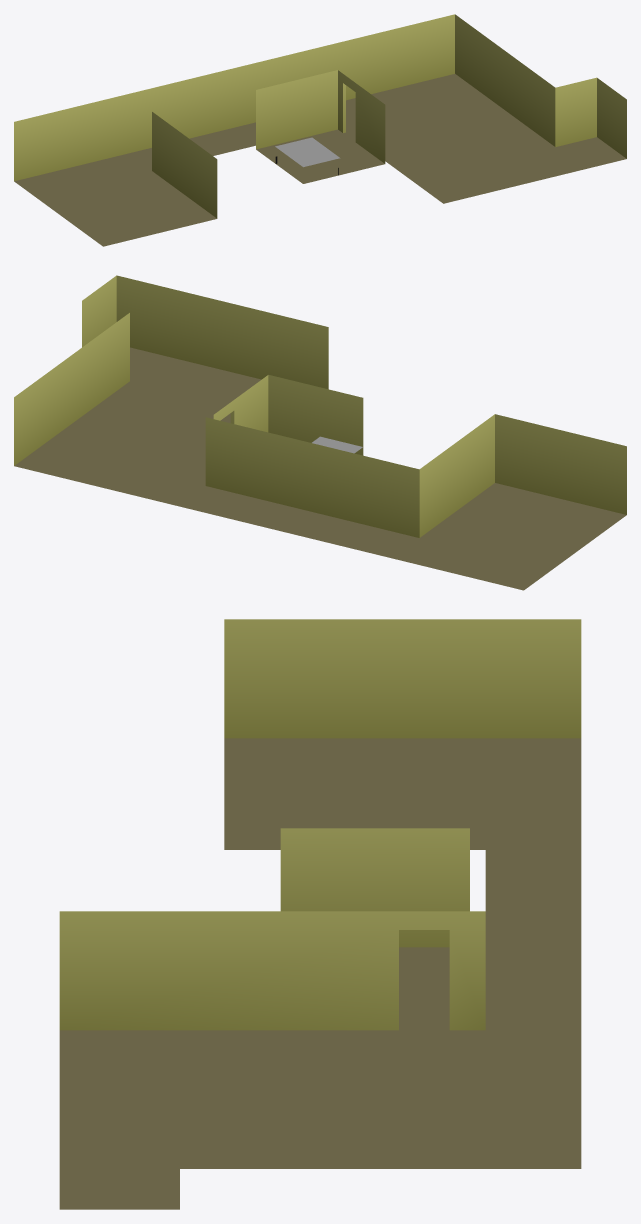
The model's file is testroom.glb.
3 views of the same model, one above another, from view 1: azimuth 30°, elevation 25°; view 2: azimuth 150°, elevation 25°; view 3: azimuth 270°, elevation 25° (orthographic). The views are drawn at different scales.
Visible parts, largest first — view 1: Walls, Floor, Matress; view 2: Walls, Floor; view 3: Floor, Walls.
Part boxes in pixels (box(x1,y1,x2,y2)): Walls: box(14, 14, 626, 218); Floor: box(14, 74, 626, 246); Matress: box(275, 137, 340, 167); Walls: box(14, 275, 626, 537); Floor: box(14, 347, 626, 590); Floor: box(59, 738, 581, 1209); Walls: box(59, 619, 581, 1030).
Size of the model in its own units: 19.73 by 2.32 by 9.23.
